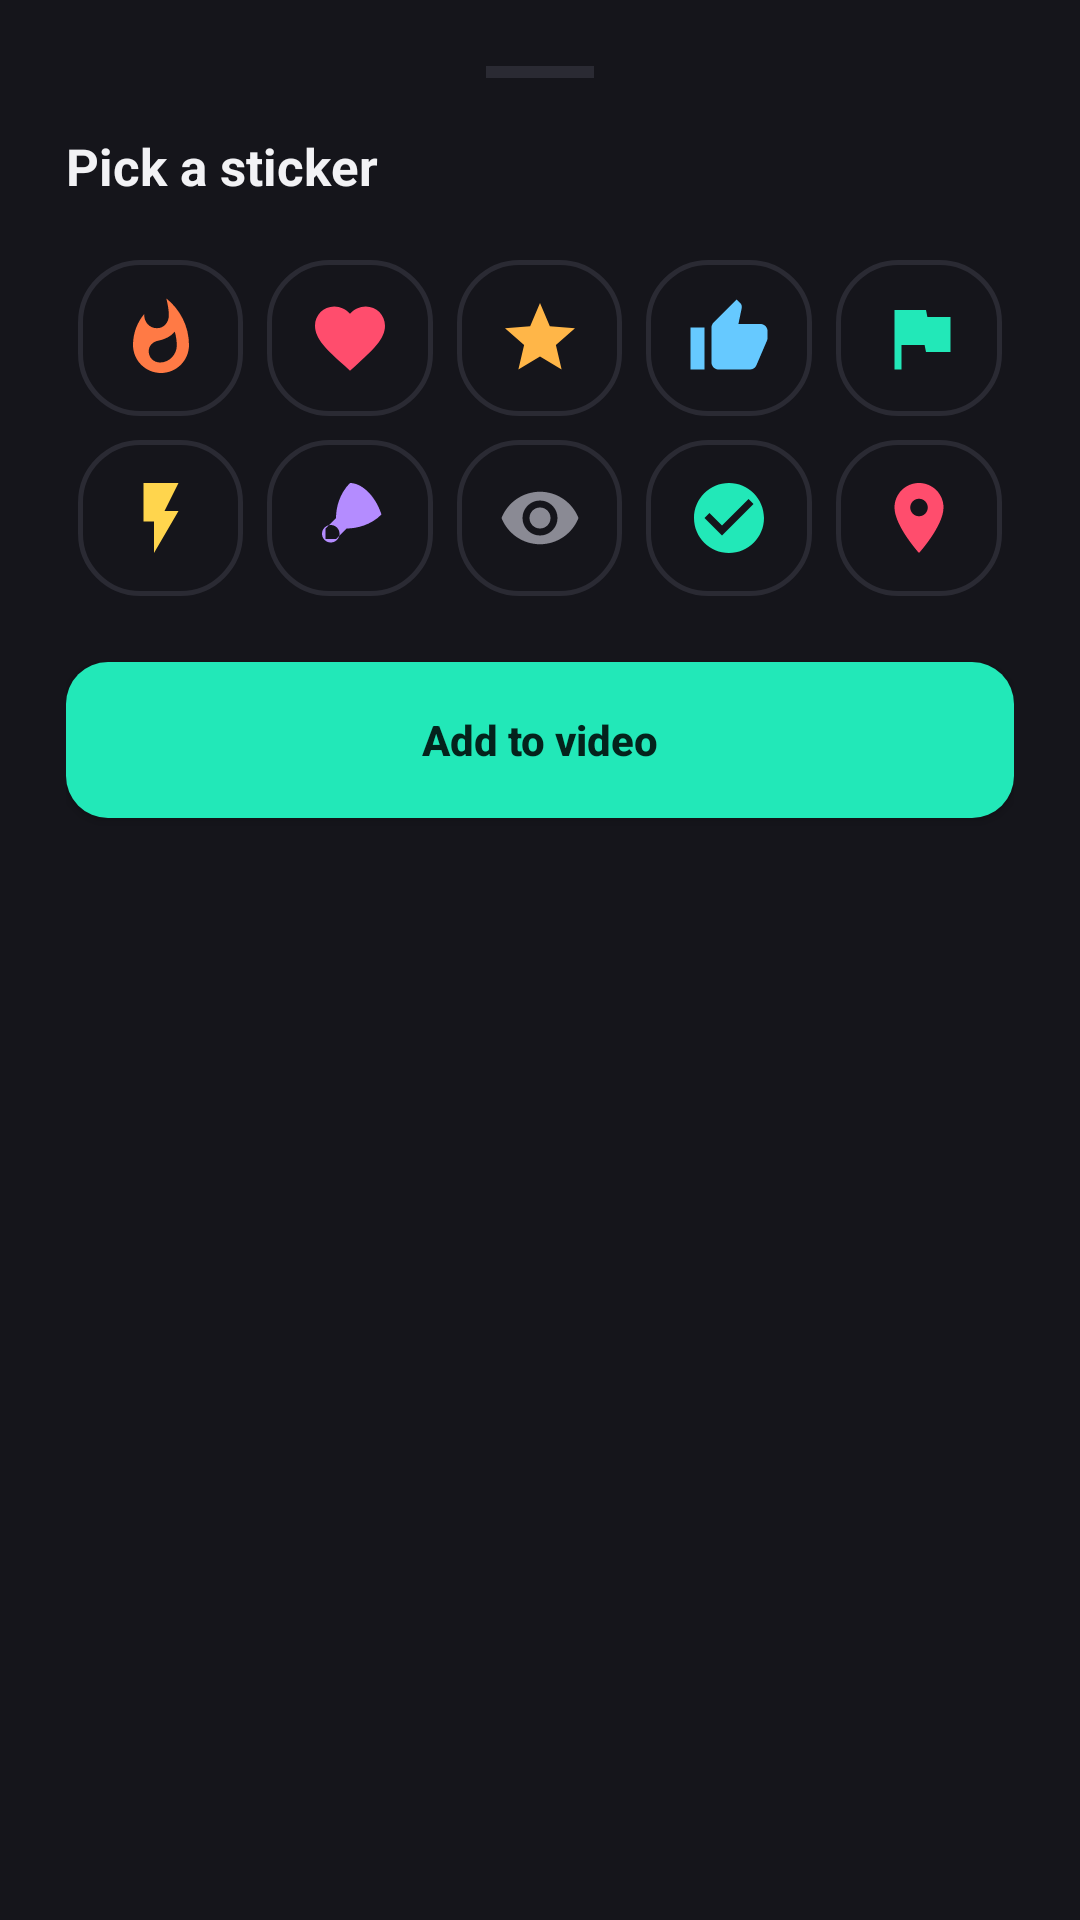

Named icons in this screenshot (1080px×1920px) and their centers, [x,y]:
check: [729,518]
eye: [540,518]
fire: [161,335]
flag: [922,340]
flash: [161,518]
heart: [350,338]
pin: [919,518]
star: [540,336]
thumb up: [729,334]
